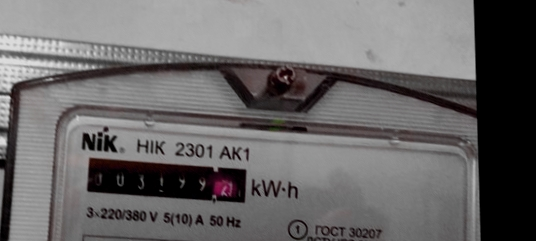0: (92, 168, 106, 187), (115, 168, 127, 188)
1: (157, 168, 167, 188)
3: (136, 172, 146, 191)
6: (220, 183, 230, 200)
9: (197, 175, 208, 193), (177, 172, 187, 190)
screen: (81, 149, 256, 215)
